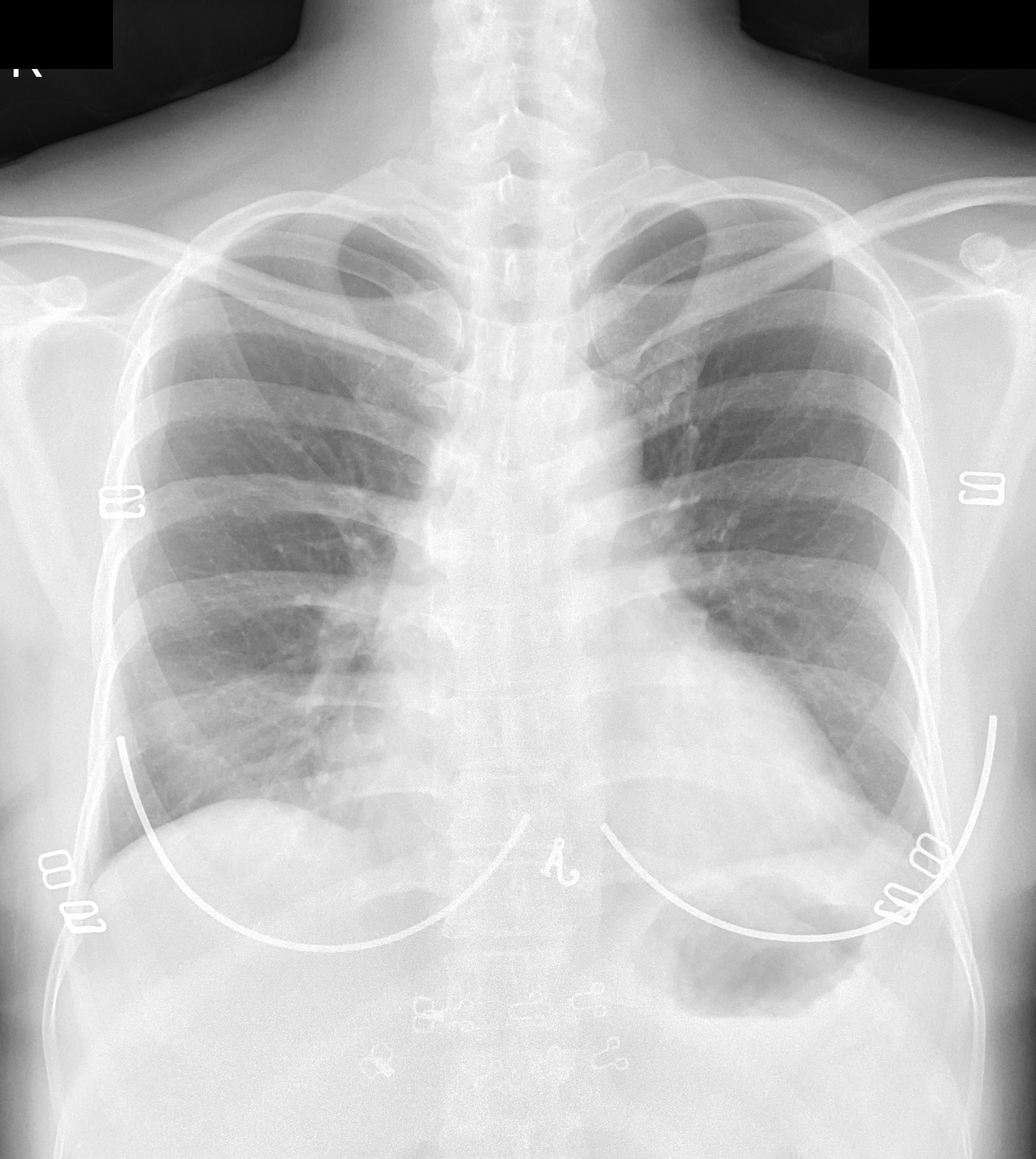Cardiomegaly: (339, 707, 863, 849)
